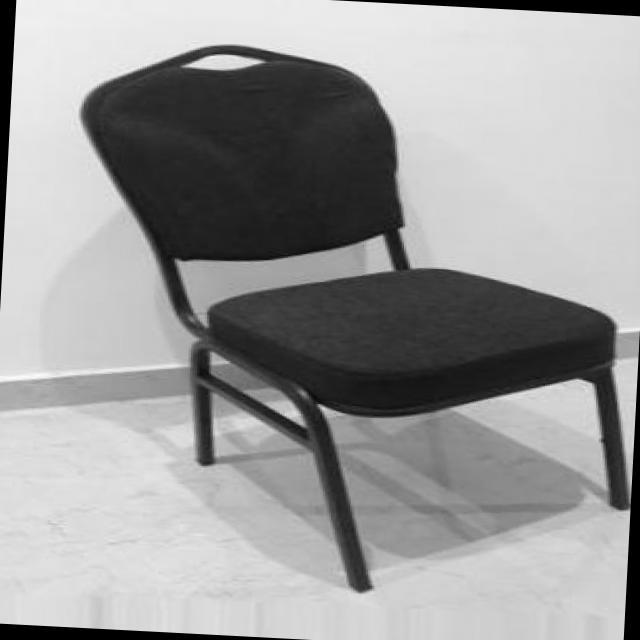chair: (59, 34, 640, 607)
